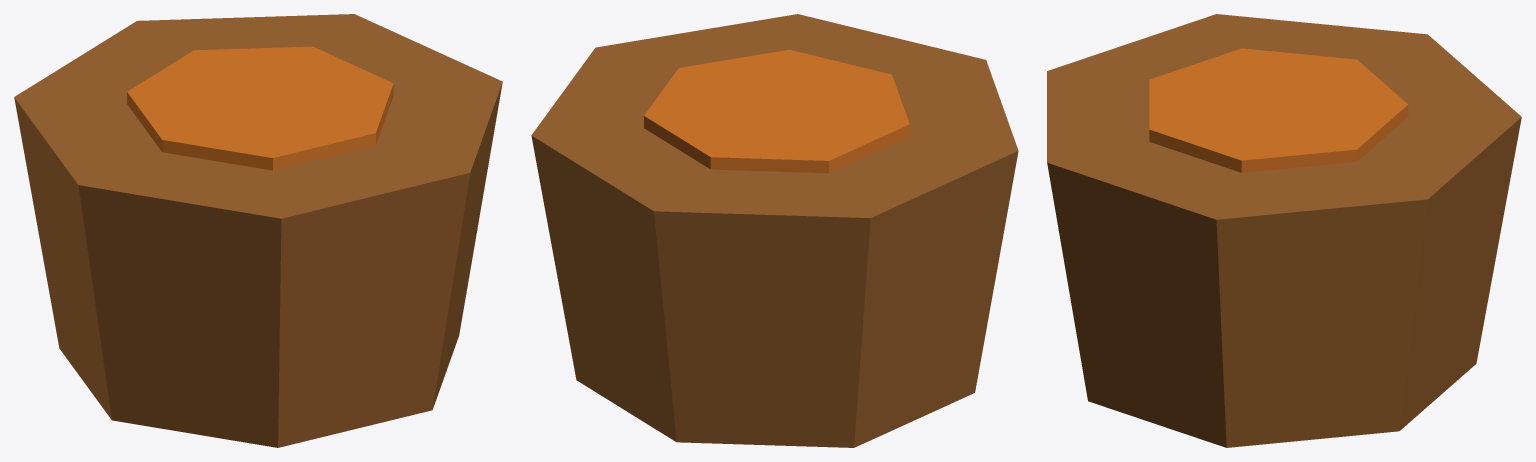
The model's file is good_27.glb.
3 views of the same model, side by side, from view 1: azimuth 30°, elevation 25°; view 2: azimuth 150°, elevation 25°; view 3: azimuth 270°, elevation 25° (orthographic).
Parts seen in each view (by area): view 1: good_27; view 2: good_27; view 3: good_27.
Boxes of the visible parts, left/top/right/bottom form: good_27: left=14, top=14, right=502, bottom=447; good_27: left=531, top=14, right=1018, bottom=447; good_27: left=1047, top=14, right=1521, bottom=447.
Bounding box in the file's own units: 0.1072 × 0.063 × 0.1046.
